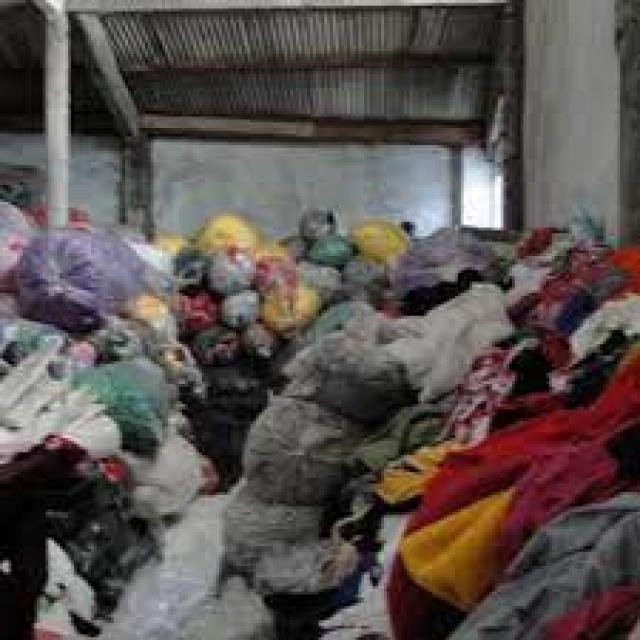Clothes -Biodegradable-: (0, 202, 640, 640)
